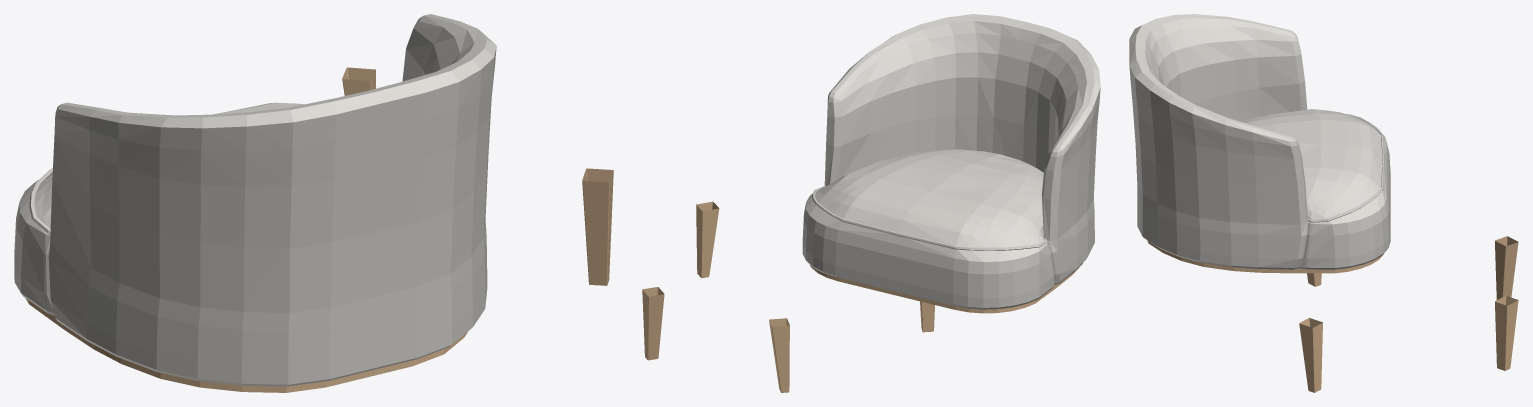
The model's file is item.glb.
3 views of the same model, side by side, from view 1: azimuth 30°, elevation 25°; view 2: azimuth 150°, elevation 25°; view 3: azimuth 270°, elevation 25° (orthographic). The views are drawn at different scales.
Parts seen in each view (by area): view 1: Node526, Node1044, Node247, Node765, Node25, Node676, Node828, Node310, Node689, Node1093, Node685, Node687 (+67 smaller); view 2: Node691, Node1095, Node45, Node8, Node33, Node467, Node985, Node645, Node156, Node591, Node102, Node370 (+26 smaller); view 3: Node646, Node612, Node1084, Node242, Node17, Node28, Node1082, Node150, Node774, Node851, Node644, Node642 (+37 smaller).
Part boxes in pixels (x1=…): Node526: x1=331, y1=232, x2=375, y2=307; Node1044: x1=374, y1=221, x2=420, y2=296; Node247: x1=332, y1=169, x2=378, y2=242; Node765: x1=376, y1=158, x2=422, y2=231; Node25: x1=582, y1=181, x2=608, y2=285; Node676: x1=242, y1=330, x2=288, y2=368; Node828: x1=378, y1=120, x2=425, y2=169; Node310: x1=334, y1=131, x2=380, y2=179; Node689: x1=330, y1=315, x2=374, y2=363; Node1093: x1=374, y1=304, x2=418, y2=352; Node685: x1=197, y1=325, x2=242, y2=367; Node687: x1=288, y1=325, x2=330, y2=368; Node691: x1=894, y1=256, x2=953, y2=294; Node1095: x1=835, y1=242, x2=894, y2=279; Node45: x1=772, y1=325, x2=789, y2=392; Node8: x1=648, y1=294, x2=664, y2=360; Node33: x1=701, y1=208, x2=718, y2=277; Node467: x1=895, y1=244, x2=954, y2=270; Node985: x1=836, y1=230, x2=896, y2=256; Node645: x1=993, y1=79, x2=1010, y2=121; Node156: x1=1009, y1=83, x2=1026, y2=124; Node591: x1=835, y1=266, x2=894, y2=289; Node102: x1=894, y1=280, x2=953, y2=303; Node370: x1=930, y1=174, x2=997, y2=191; Node646: x1=1257, y1=186, x2=1300, y2=225; Node612: x1=1256, y1=185, x2=1296, y2=223; Node1084: x1=1200, y1=229, x2=1231, y2=255; Node242: x1=1260, y1=83, x2=1301, y2=111; Node17: x1=1495, y1=301, x2=1506, y2=370; Node28: x1=1299, y1=323, x2=1314, y2=392; Node1082: x1=1231, y1=233, x2=1258, y2=257; Node150: x1=1258, y1=57, x2=1298, y2=87; Node774: x1=1197, y1=179, x2=1227, y2=217; Node851: x1=1199, y1=184, x2=1229, y2=221; Node644: x1=1254, y1=155, x2=1293, y2=184; Node642: x1=1256, y1=159, x2=1297, y2=185.
Bounding box in the file's own units: 39.51 × 25.63 × 38.58.
